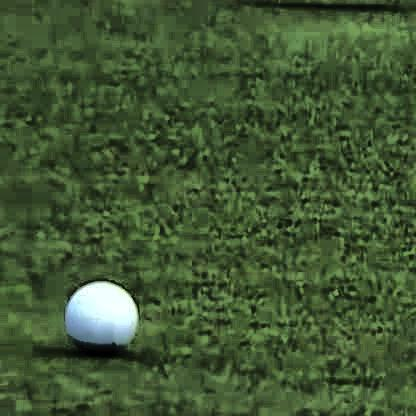golfball: (63, 273, 134, 350)
